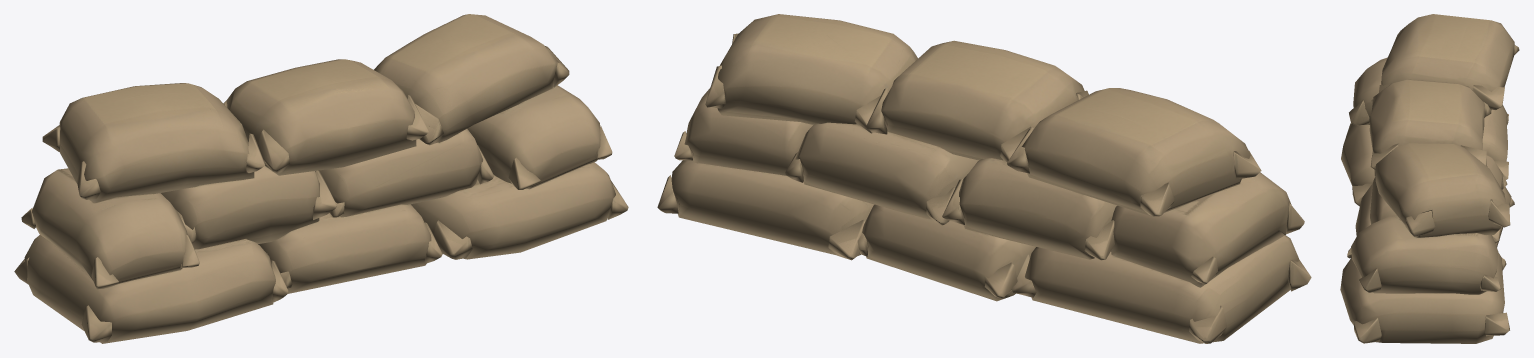
Rendered from sandbag.glb.
3 views of the same model, side by side, from view 1: azimuth 30°, elevation 25°; view 2: azimuth 150°, elevation 25°; view 3: azimuth 270°, elevation 25° (orthographic). The views are drawn at different scales.
Size of the model in its own units: 0.9502 by 0.3071 by 0.3354.
1 material, 1 textured.
